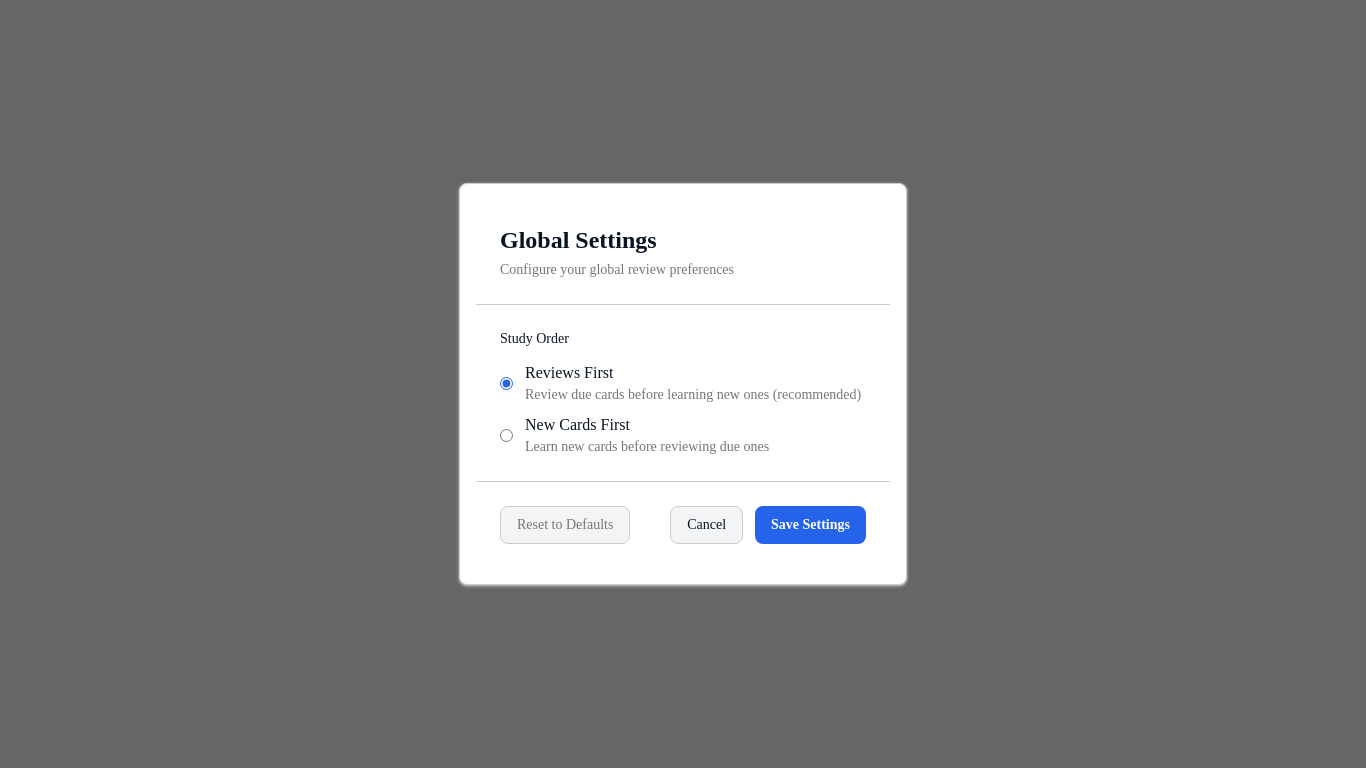
GlobalSettings › should handle save error
The width and height of the screenshot is (1366, 768).
Expected: the text "Study Order" is shown, x1=500 y1=331 x2=569 y2=346
Click the button "Save Settings": (810, 525) x1=755 y1=506 x2=866 y2=544
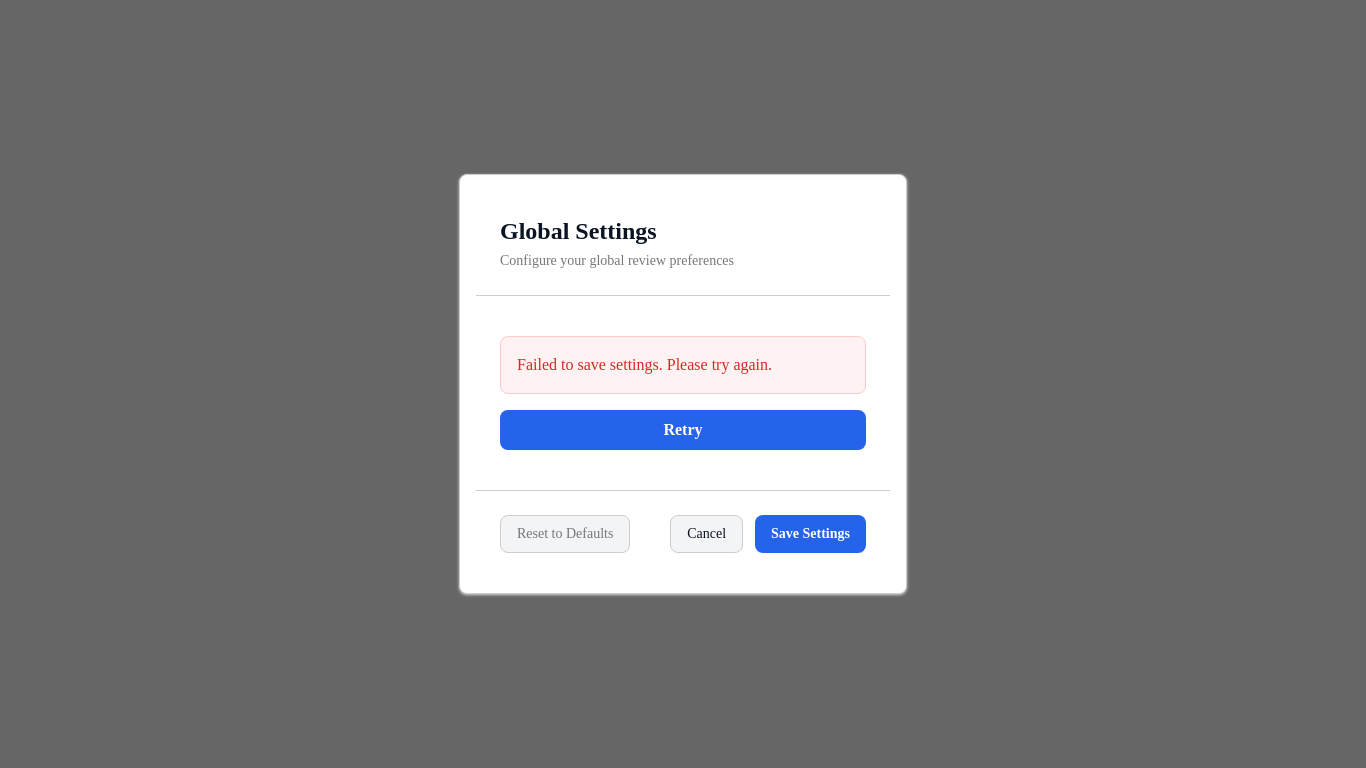
Now the text "Failed to save settings. Please try again." is shown, box x1=500 y1=336 x2=866 y2=394
